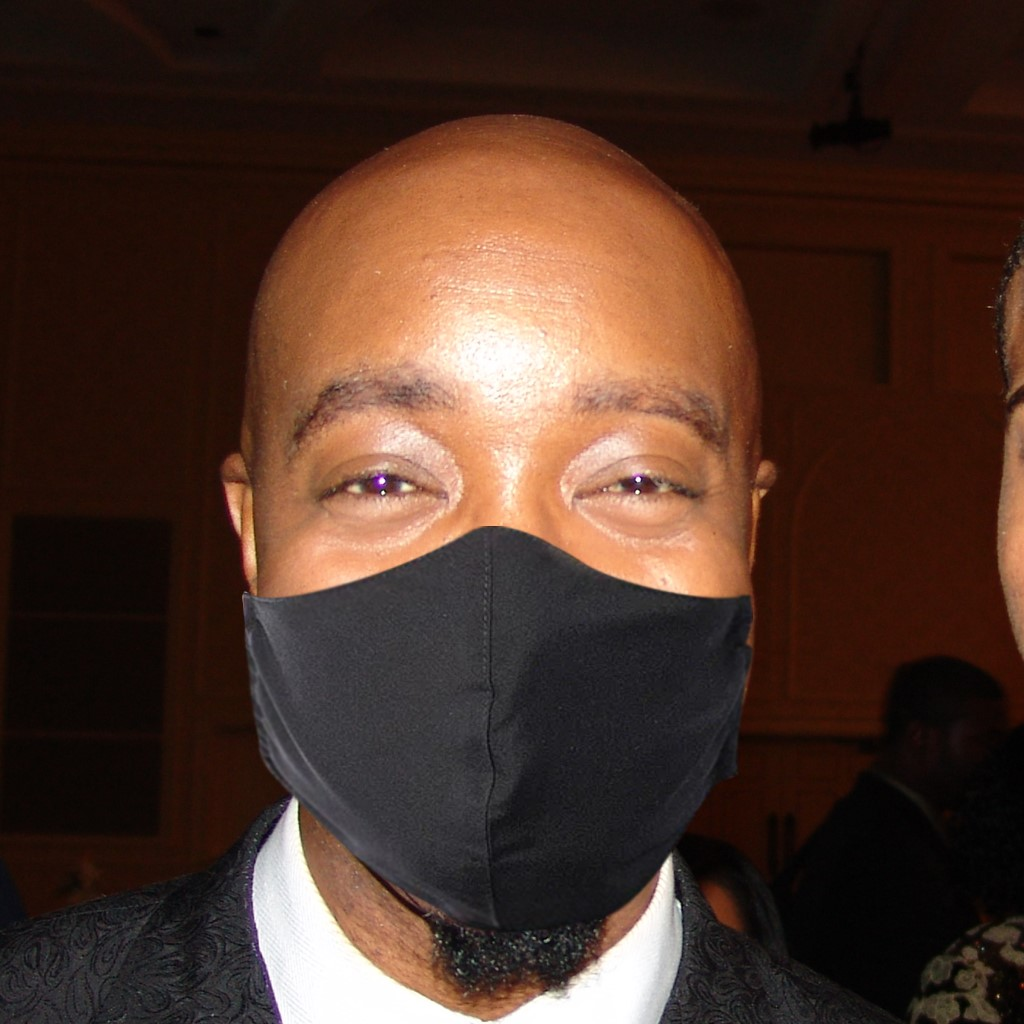con_mascara: (239, 141, 769, 946)
